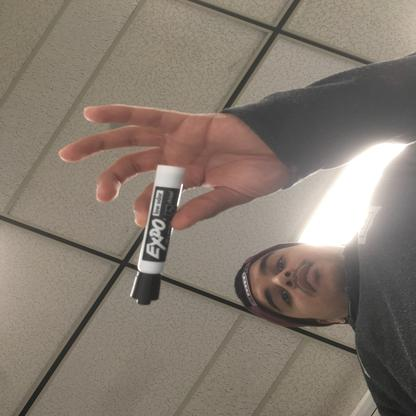expo_marker: (127, 163, 189, 308)
